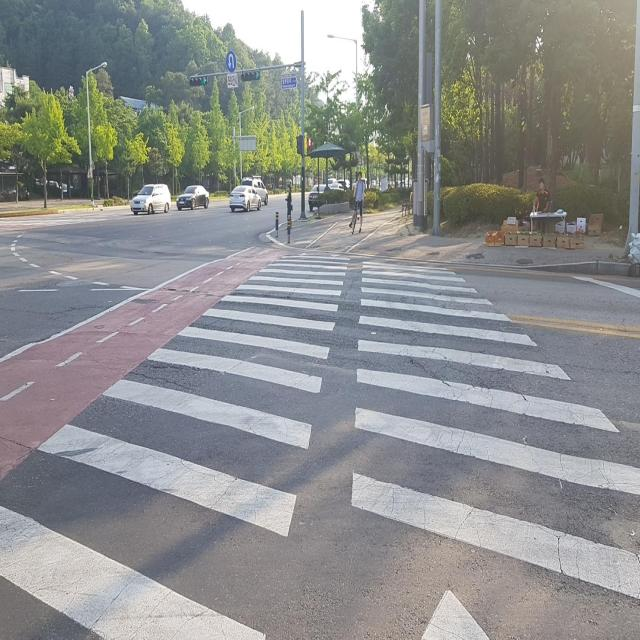빨간불: (305, 136, 313, 156)
횡단보도: (0, 251, 640, 639)
